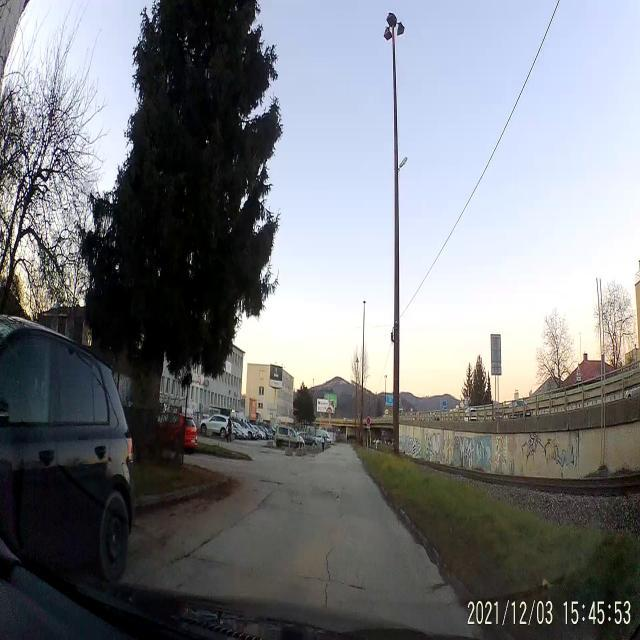Pothole: (308, 472, 338, 508), (260, 472, 284, 500)
